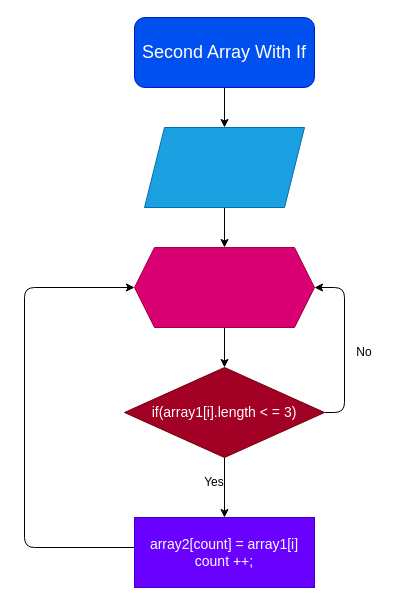
This 412x605 diagram has some shape labels left out. Here are the shapes that lost their labels. From the top down, the centre of each, then its label:
At [224,167]: "String[] Array 1 String[] Array 2 int count = 0".
At [224,287]: "for ( int i = 0; i < array1.length; i ++;".
